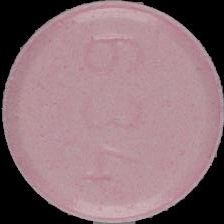10544-246: (0, 0, 224, 224)
